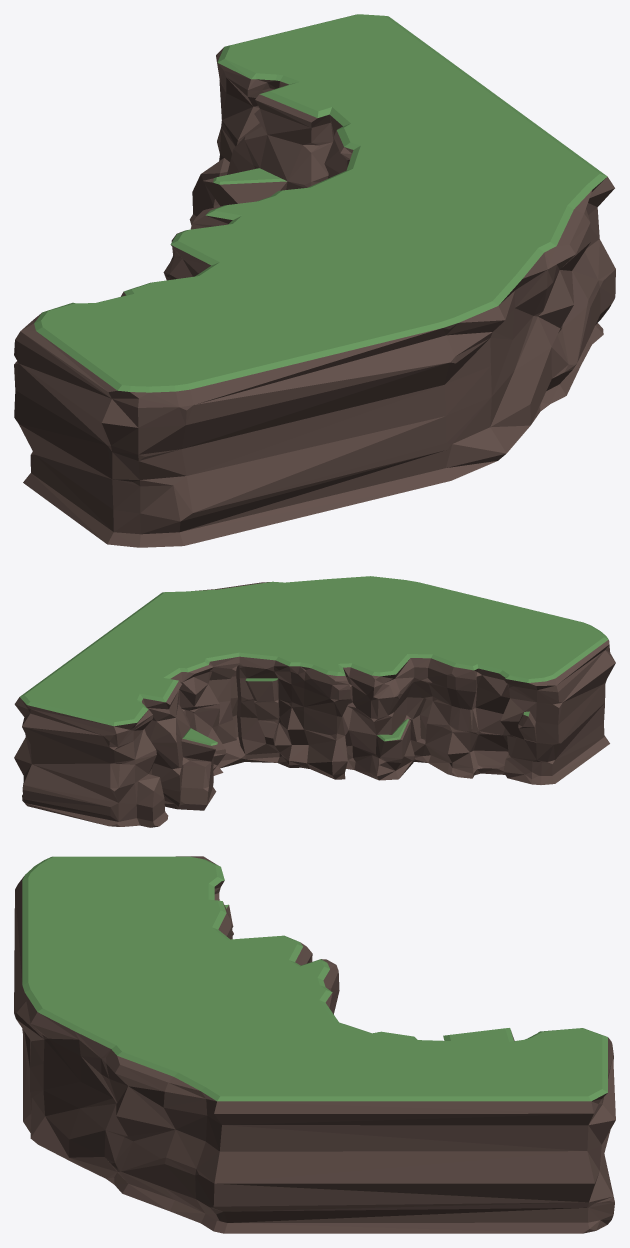
File: Cliff L 7.fbx
3 renders of one model, top to bottom at view 1: azimuth 30°, elevation 25°; view 2: azimuth 150°, elevation 25°; view 3: azimuth 270°, elevation 25°, orthographic. The views are drawn at different scales.
Parts seen in each view (by area): view 1: Cliff 20; view 2: Cliff 20; view 3: Cliff 20.
Boxes of the visible parts, left/top/right/bottom form: Cliff 20: left=14, top=14, right=615, bottom=547; Cliff 20: left=14, top=576, right=615, bottom=827; Cliff 20: left=14, top=856, right=615, bottom=1233.
Bounding box in the file's own units: 410 × 102 × 412.
